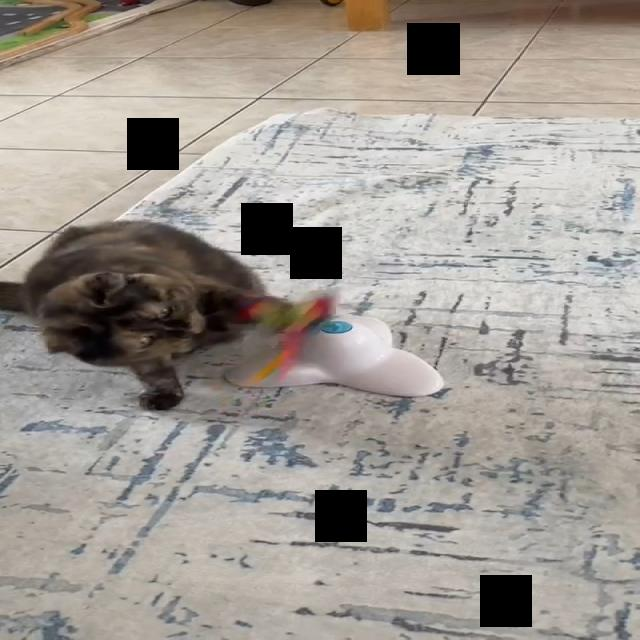authorized: (0, 219, 271, 410)
